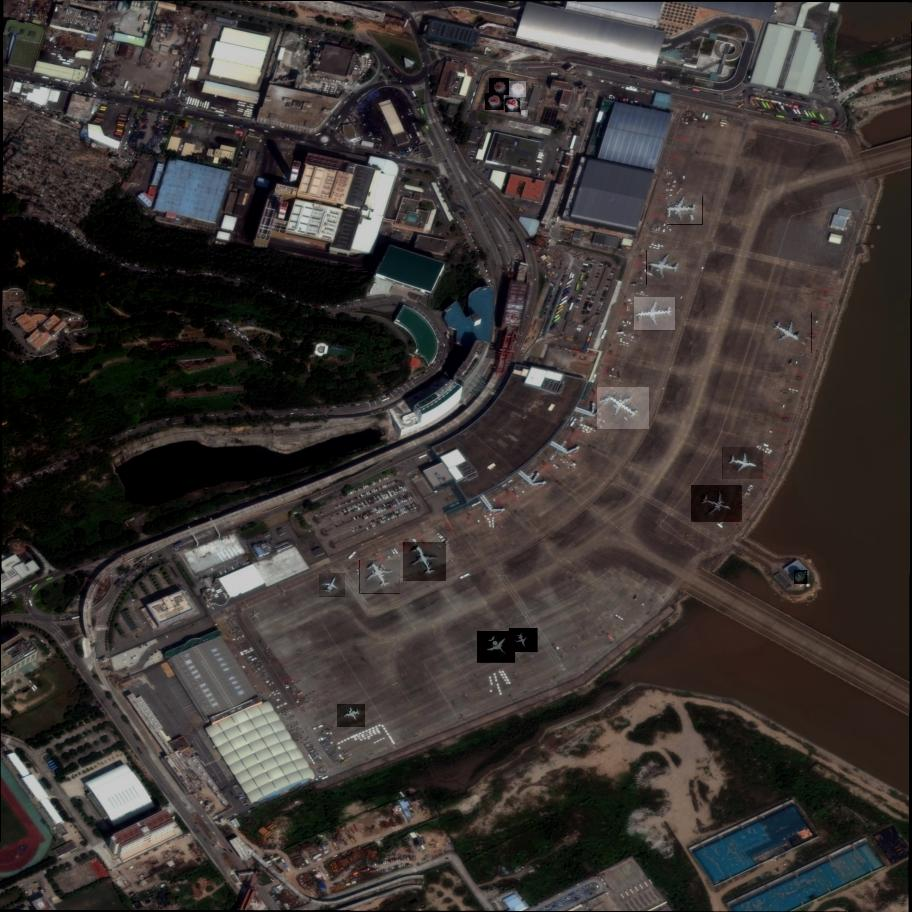plane: (598, 384, 650, 431), (403, 537, 447, 585), (692, 483, 742, 524), (766, 312, 812, 356), (360, 556, 401, 598), (631, 297, 678, 331), (477, 629, 515, 667), (647, 249, 687, 285), (723, 446, 764, 480), (667, 197, 702, 224), (509, 627, 538, 653), (320, 572, 346, 600), (337, 704, 365, 729)
storage-tank: (489, 78, 509, 96), (485, 94, 504, 111), (509, 82, 527, 99), (794, 570, 810, 584), (505, 99, 521, 113), (521, 111, 528, 115)
